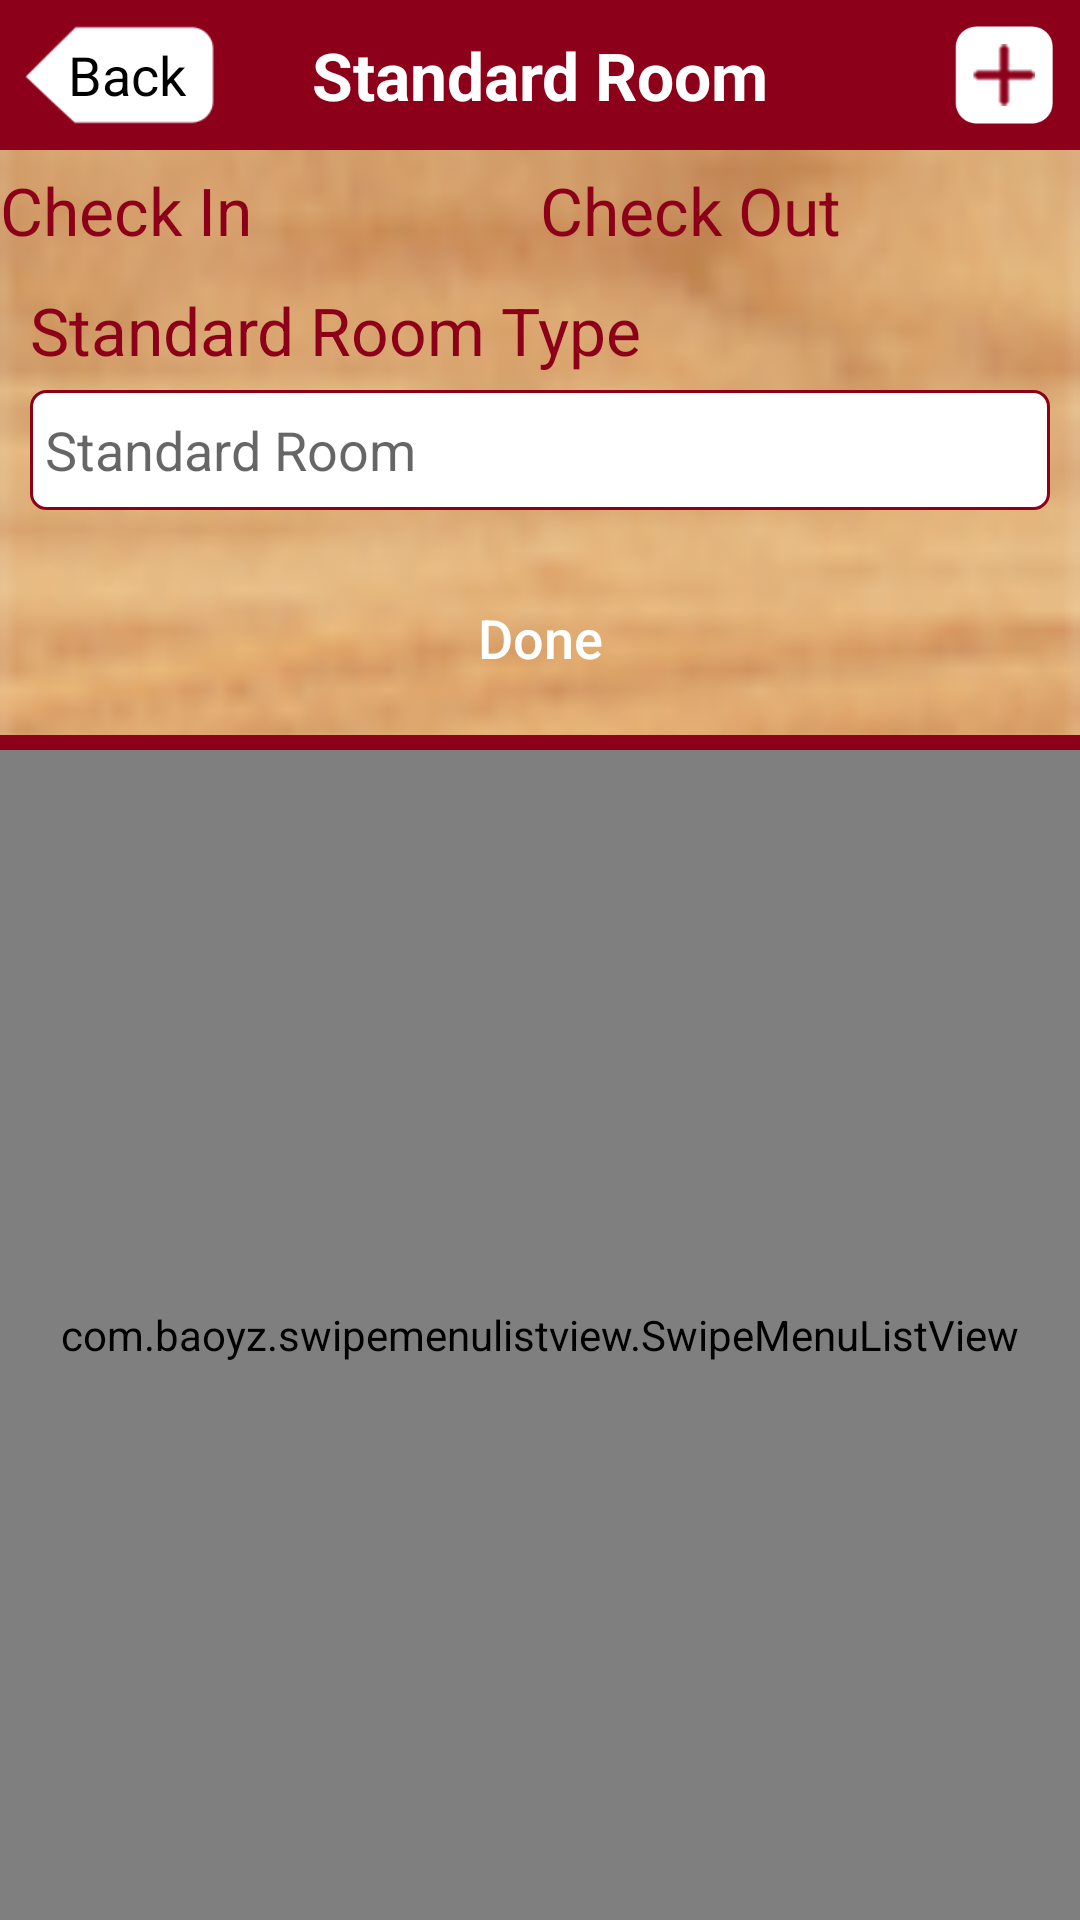

Point at icon controls on the screen. Image size 1080px x 1920px, points as [x,y].
plus: [1004,75]
